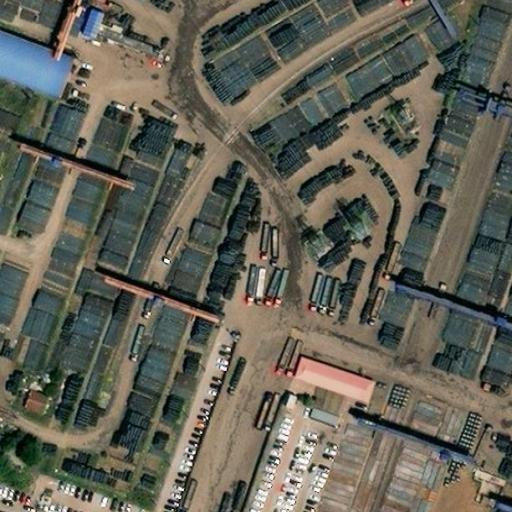building: (455, 0, 512, 93), (300, 368, 380, 415), (304, 400, 342, 430), (76, 3, 105, 40), (19, 384, 48, 414), (492, 497, 512, 512)
